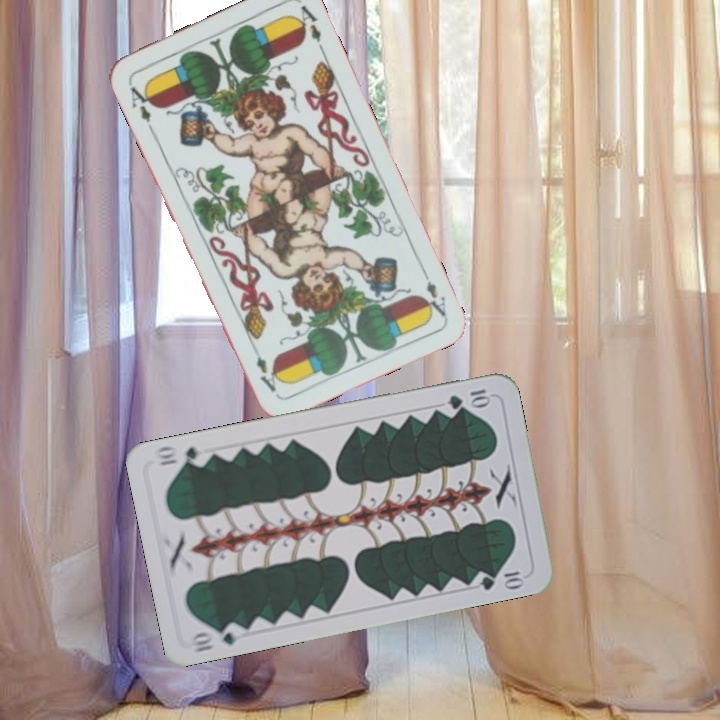EA: (124, 79, 158, 135), (417, 264, 449, 319)
G10: (188, 619, 247, 655), (444, 385, 493, 412)
